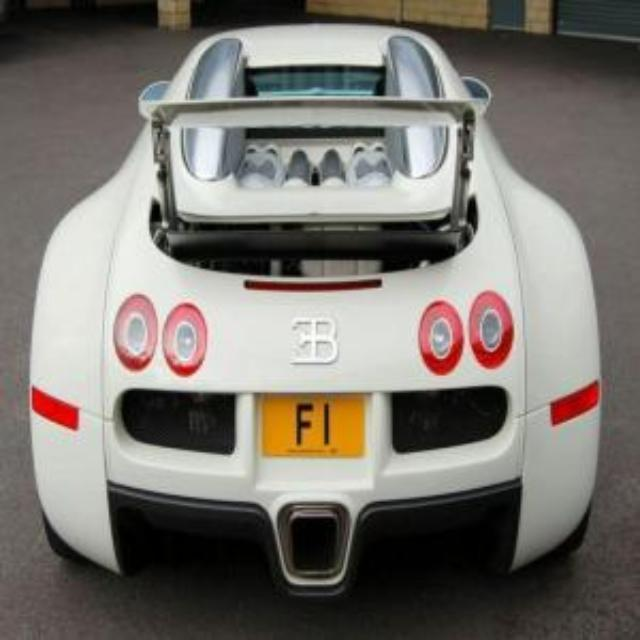License Plate: (263, 398, 367, 457)
